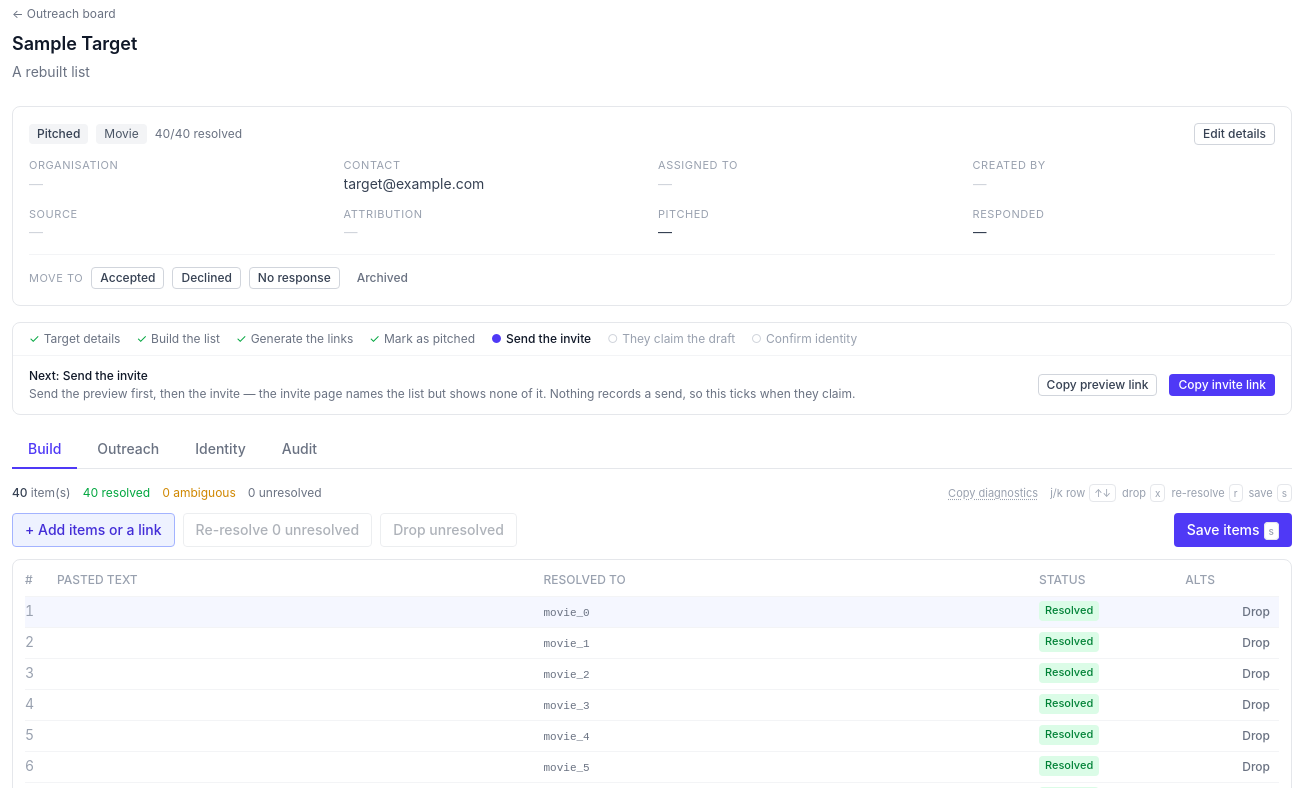
pitch detail — sending both links › confirms the button that was actually pressed
Check: the text "Next: Send the invite" is shown, box [29,368,148,383]
Step 1. Click the button "Copy preview link" → (1098, 385), box [1038,374,1158,396]
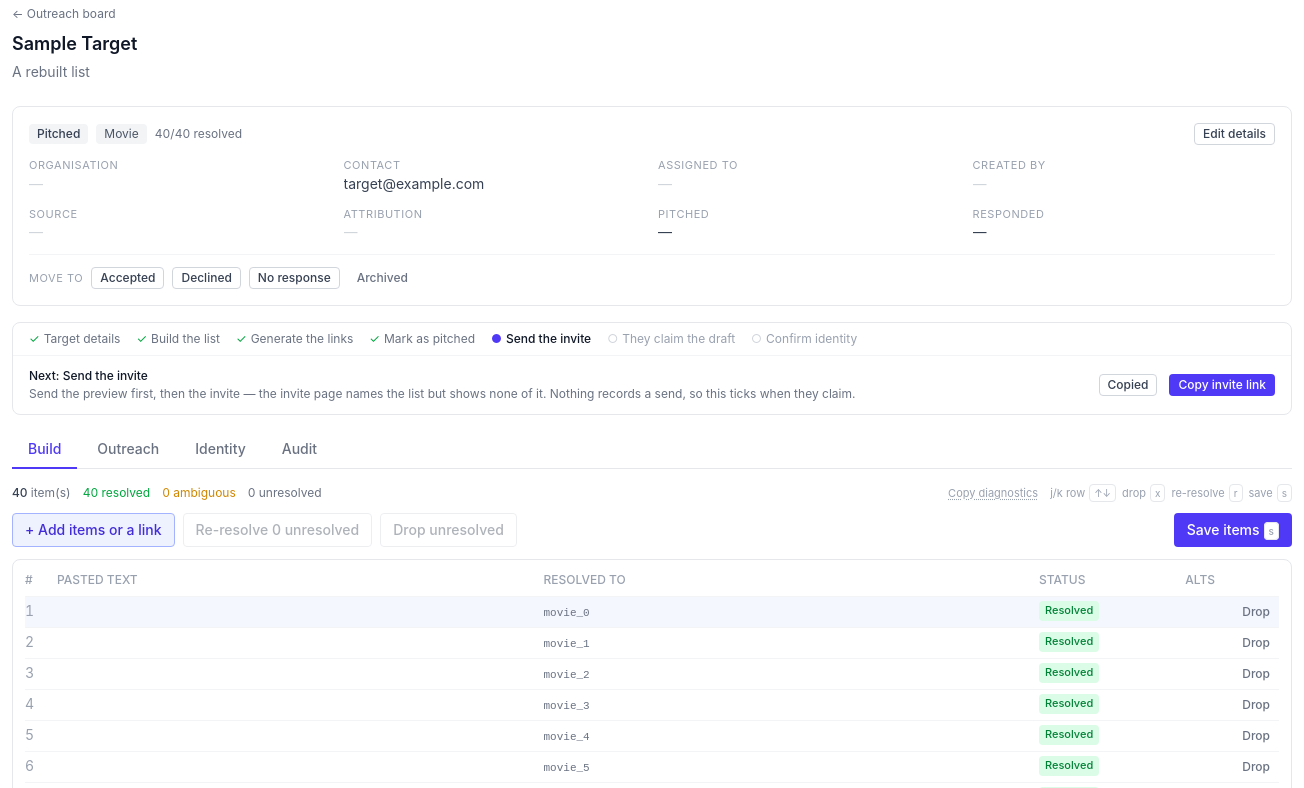
Check: the button "Copy invite link" is shown, box [1170,374,1275,396]
Check: the button "Copied" is shown, box [1098,374,1158,396]
